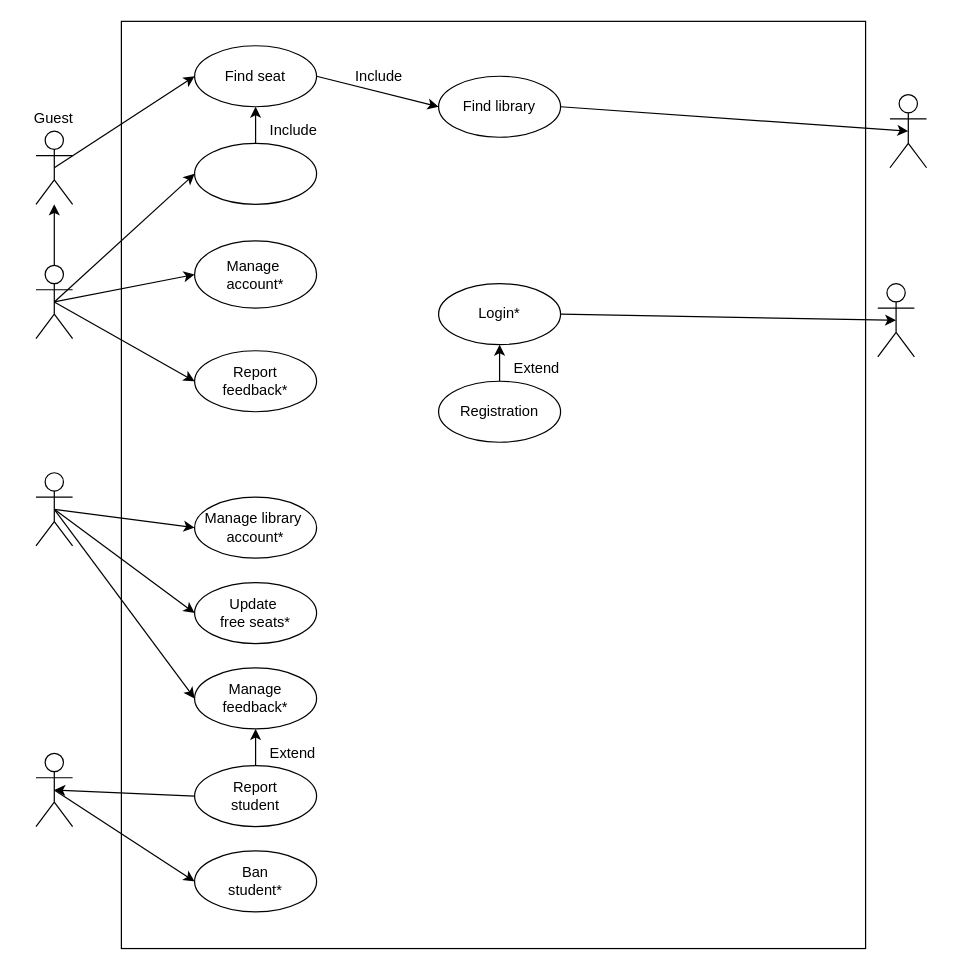
Some shapes in this 960 by 970 pixel diagram are drawn without their labels. Each missing label, with the centre of its shape:
"Book seat*" belongs at point (255, 173).
"Gmail login" belongs at point (895, 319).
"Google Maps API" belongs at point (908, 130).
"Librarian" belongs at point (54, 509).
"Moderator" belongs at point (54, 789).
"Student" belongs at point (54, 301).
